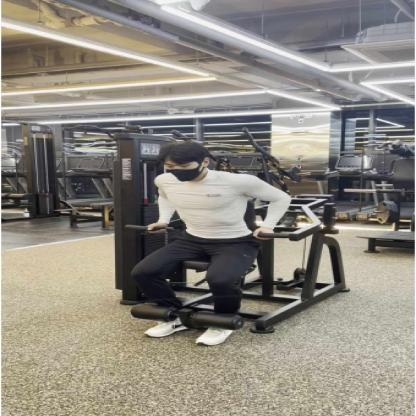seated dip machine: (111, 132, 353, 350)
